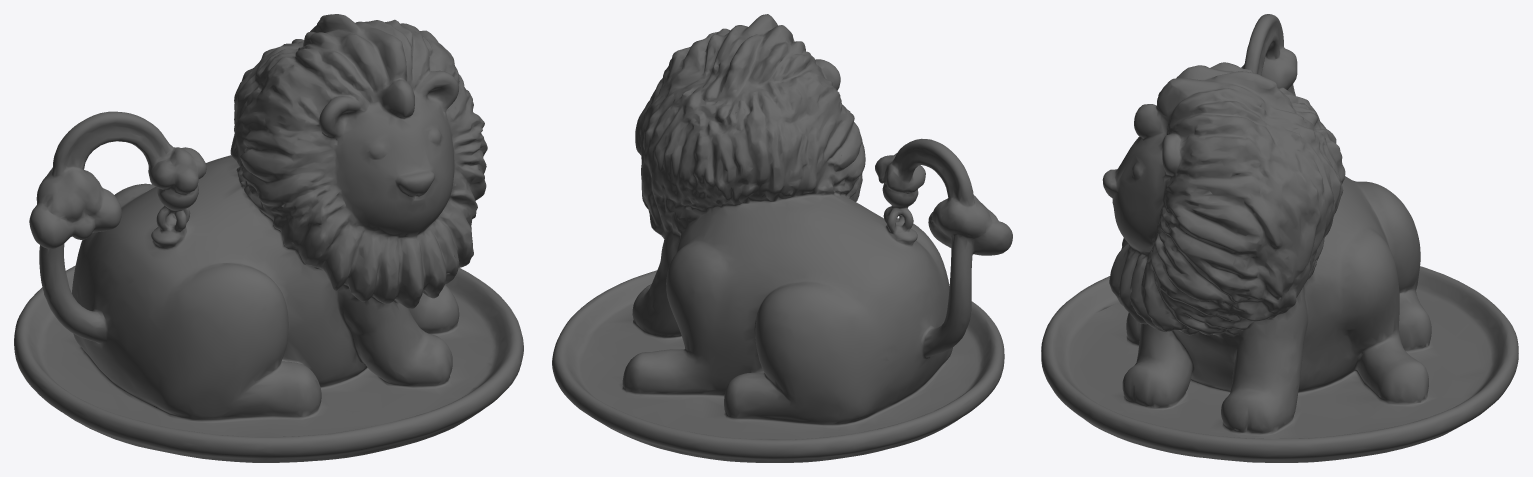
The picture shows the model from 3 angles, left to right: view 1: azimuth 30°, elevation 25°; view 2: azimuth 150°, elevation 25°; view 3: azimuth 270°, elevation 25°; orthographic projection. The views are drawn at different scales.
Parts seen in each view (by area): view 1: mesh_uvwarp; view 2: mesh_uvwarp; view 3: mesh_uvwarp.
Boxes of the visible parts, x1,y1,x2,y2 form: mesh_uvwarp: (14,14,523,462); mesh_uvwarp: (552,14,1012,462); mesh_uvwarp: (1041,14,1518,462).
Size of the model in its own units: 2 by 1.43 by 1.9.
Materials: 1 (1 with a texture image).
